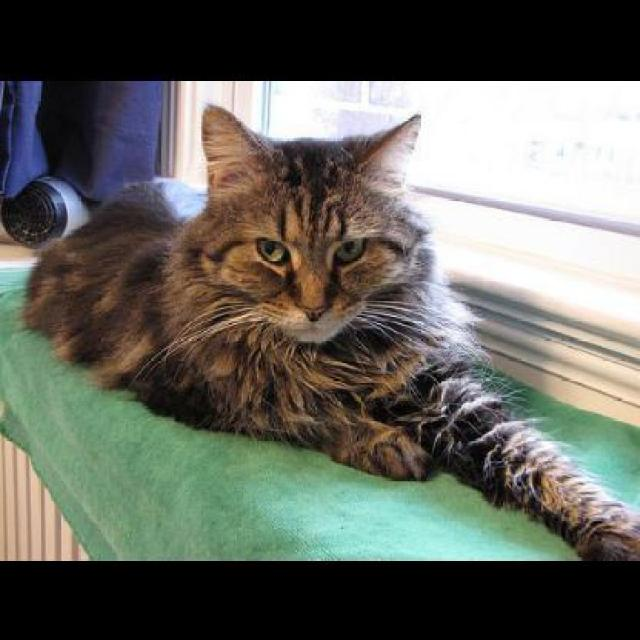unauthorized: (17, 102, 638, 560)
